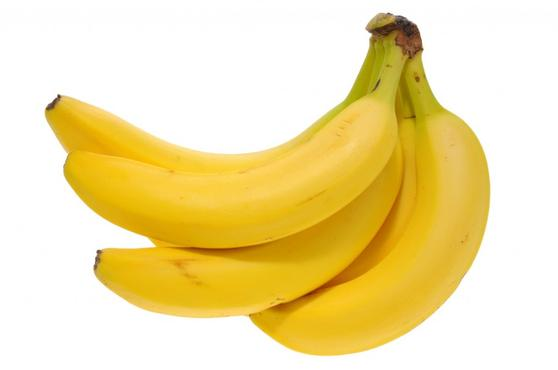banana: (47, 53, 421, 252)
